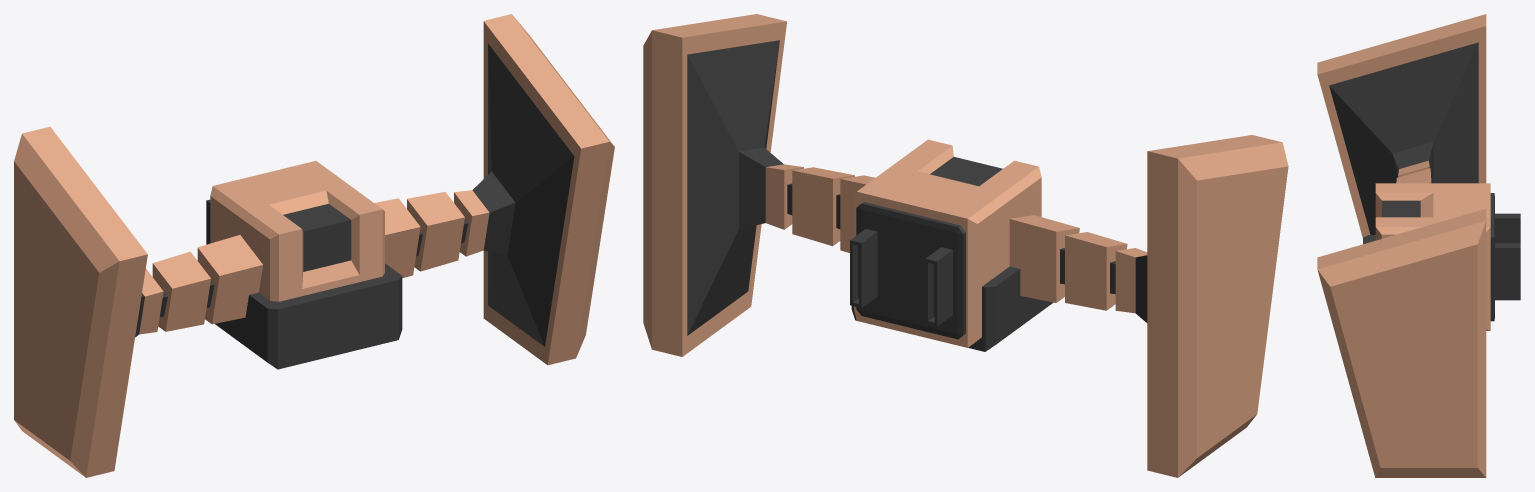
Rendered from Ship3.fbx.
3 views of the same model, side by side, from view 1: azimuth 30°, elevation 25°; view 2: azimuth 150°, elevation 25°; view 3: azimuth 270°, elevation 25° (orthographic). The views are drawn at different scales.
Parts seen in each view (by area): view 1: Wing.002, ArmorPlate.002; view 2: Wing.002, ArmorPlate.002, Jet.002; view 3: Wing.002, ArmorPlate.002, Jet.002.
Boxes of the visible parts, box(x1,y1,x2,y2) form: Wing.002: box(14, 14, 614, 477); ArmorPlate.002: box(210, 161, 402, 369); Wing.002: box(643, 14, 1288, 477); ArmorPlate.002: box(851, 139, 1053, 351); Jet.002: box(850, 202, 965, 339); Wing.002: box(1317, 14, 1486, 477); ArmorPlate.002: box(1363, 183, 1490, 330); Jet.002: box(1490, 193, 1520, 321).
Size of the model in its own units: 897 by 494 by 354.
